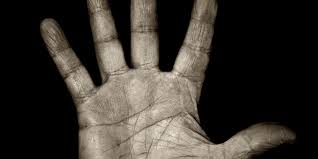hand: (21, 0, 295, 157)
